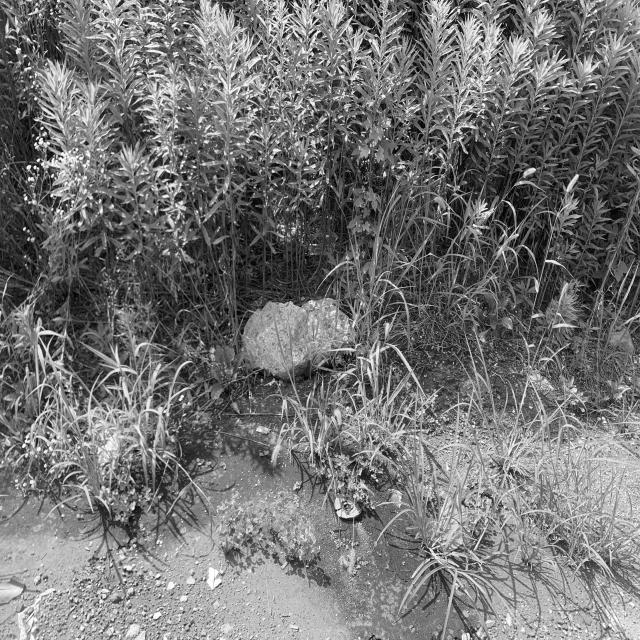Stone: (242, 299, 352, 379)
